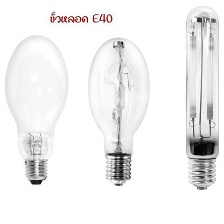light_bulb: (84, 32, 153, 190), (3, 33, 71, 187), (182, 2, 224, 192)
